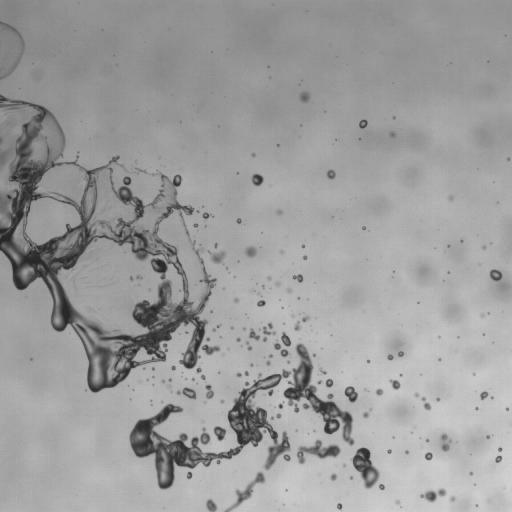droplet: (249, 322, 275, 341), (273, 332, 290, 357), (208, 250, 225, 264), (344, 386, 358, 402), (440, 433, 451, 451), (489, 269, 502, 281), (206, 499, 217, 511), (252, 174, 263, 185), (245, 246, 256, 257), (390, 379, 400, 389), (300, 92, 309, 102), (326, 170, 335, 179), (293, 274, 303, 282), (324, 379, 333, 387), (294, 321, 301, 331), (359, 120, 367, 128), (480, 391, 488, 399), (202, 212, 211, 219), (425, 452, 432, 460), (495, 455, 502, 462), (330, 473, 337, 480), (257, 300, 265, 306), (302, 316, 309, 322), (376, 389, 383, 395), (277, 402, 283, 409), (387, 354, 393, 360), (319, 368, 325, 374), (378, 484, 384, 490), (337, 503, 342, 510), (398, 351, 403, 357), (196, 367, 201, 373), (275, 413, 281, 418), (448, 195, 453, 200), (236, 218, 241, 223), (236, 372, 241, 377), (363, 412, 368, 417), (450, 496, 455, 501), (136, 275, 142, 279), (390, 132, 394, 137), (277, 210, 282, 214), (286, 288, 291, 292), (234, 298, 239, 302), (236, 337, 240, 342), (266, 360, 270, 365), (171, 365, 175, 370), (244, 371, 249, 375), (193, 223, 197, 227), (303, 255, 307, 259), (267, 276, 271, 280), (201, 375, 205, 379), (317, 380, 321, 384), (498, 447, 502, 451), (387, 449, 391, 453), (482, 246, 486, 249), (130, 276, 133, 280), (269, 354, 272, 358), (414, 393, 418, 396), (396, 500, 399, 504), (252, 153, 255, 156), (214, 244, 217, 247), (276, 282, 279, 285), (481, 314, 484, 317), (167, 385, 170, 388), (220, 400, 223, 403), (243, 327, 245, 330), (287, 360, 289, 363), (436, 398, 439, 400), (475, 407, 478, 409), (486, 436, 489, 438), (426, 439, 428, 442), (405, 451, 408, 453), (470, 472, 472, 475), (362, 227, 364, 229), (302, 245, 304, 247), (262, 285, 264, 287), (90, 308, 92, 310), (291, 315, 293, 317), (367, 360, 369, 362), (162, 380, 164, 382), (506, 408, 508, 410), (350, 477, 352, 479)
ligament: (0, 94, 218, 388), (129, 343, 352, 489), (223, 471, 265, 511), (0, 21, 24, 79), (351, 447, 380, 489), (298, 439, 340, 463), (420, 488, 446, 502), (176, 387, 196, 399), (205, 384, 214, 399), (422, 397, 431, 410), (135, 168, 149, 174), (246, 341, 251, 350), (0, 136, 4, 144)
